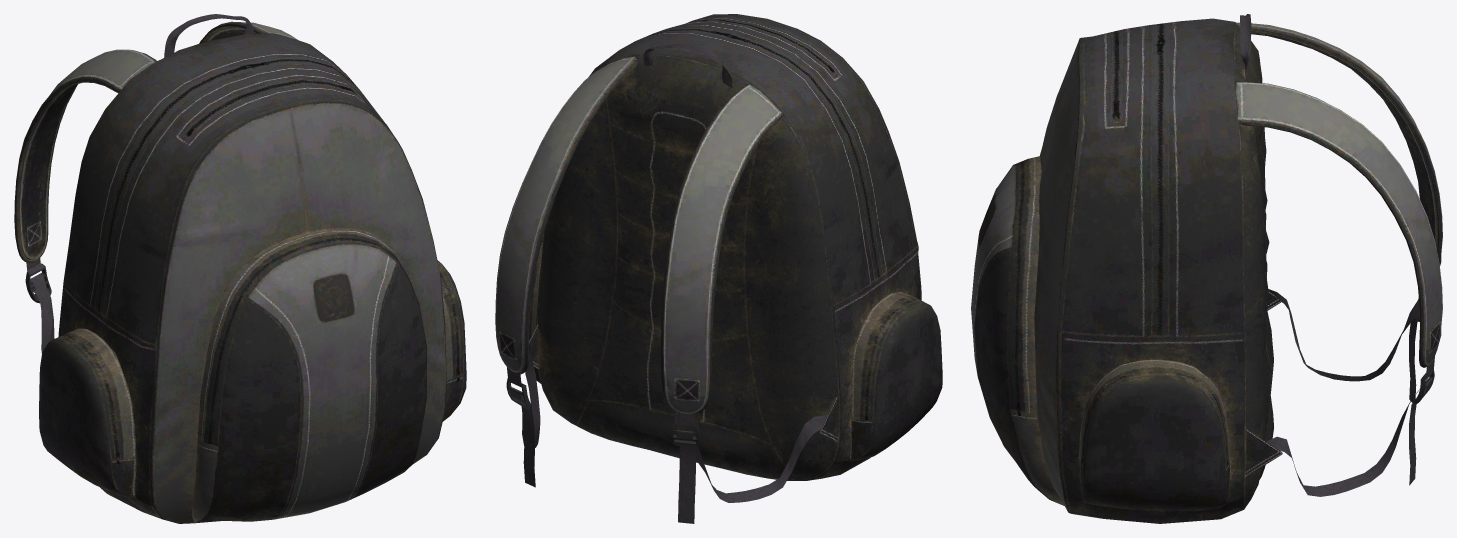
Rendered from ITM_BACKPACK.FBX.
The picture shows the model from 3 angles, left to right: view 1: azimuth 30°, elevation 25°; view 2: azimuth 150°, elevation 25°; view 3: azimuth 270°, elevation 25°; orthographic projection. The views are drawn at different scales.
Visible parts, largest first — view 1: Mesh_0138; view 2: Mesh_0138; view 3: Mesh_0138.
Part boxes in pixels (x1=…): Mesh_0138: x1=14, y1=14, x2=466, y2=523; Mesh_0138: x1=495, y1=14, x2=942, y2=523; Mesh_0138: x1=971, y1=14, x2=1442, y2=523.
Bounding box in the file's own units: 1443 × 1566 × 1506.
